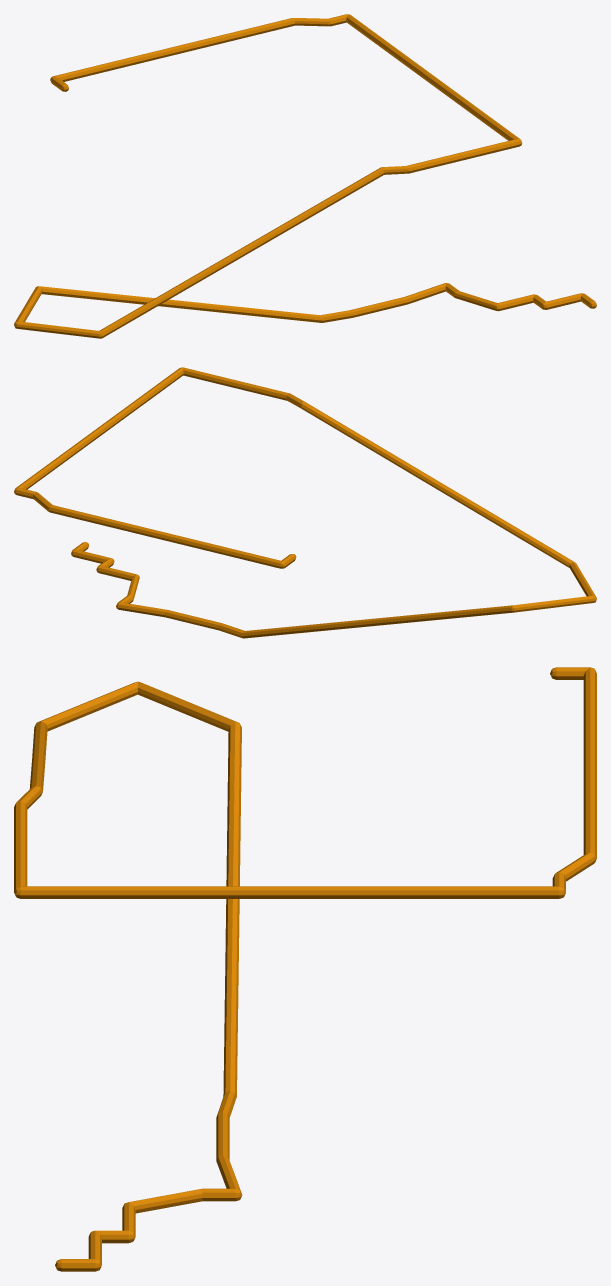
3 views of the same model, one above another, from view 1: azimuth 30°, elevation 25°; view 2: azimuth 150°, elevation 25°; view 3: azimuth 270°, elevation 25° (orthographic). The views are drawn at different scales.
Size of the model in its own units: 1513 by 520 by 866.
